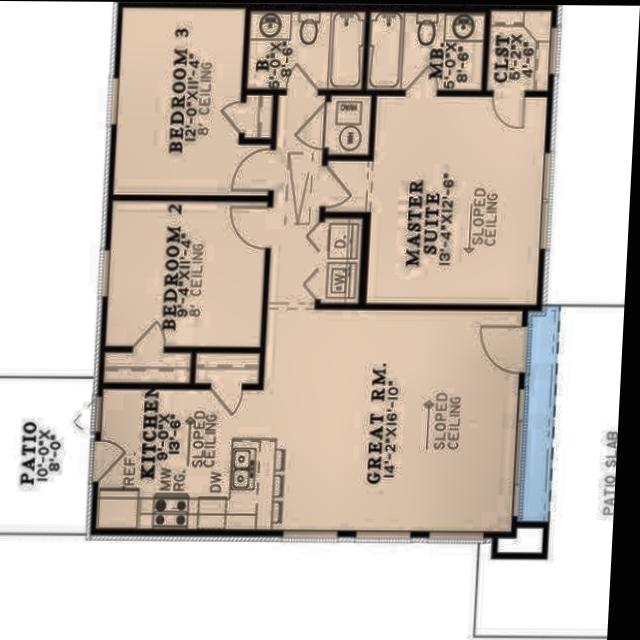room: (96, 84, 534, 550), (325, 95, 547, 303), (103, 195, 267, 389), (114, 7, 273, 195), (0, 377, 93, 532), (367, 10, 485, 88), (248, 10, 365, 87), (488, 7, 551, 92), (321, 216, 362, 303), (330, 93, 370, 155), (195, 353, 259, 381)
